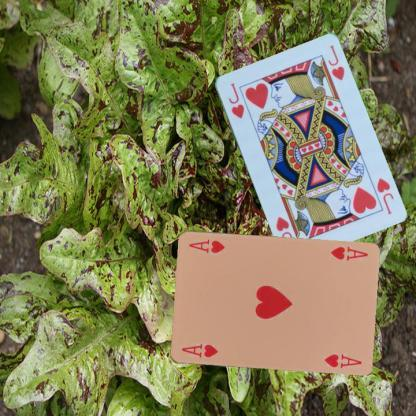Ah: (179, 340, 219, 360), (328, 244, 369, 262)
Jh: (374, 175, 394, 216), (226, 80, 246, 120)
